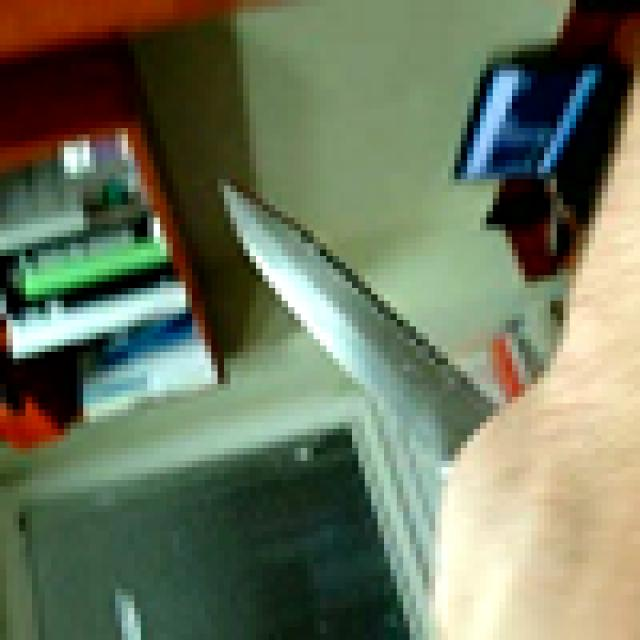Weapons: (220, 177, 499, 458)
